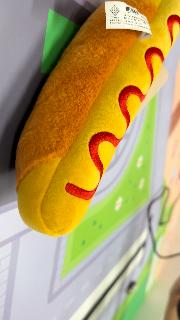hotdog: (14, 2, 180, 238)
